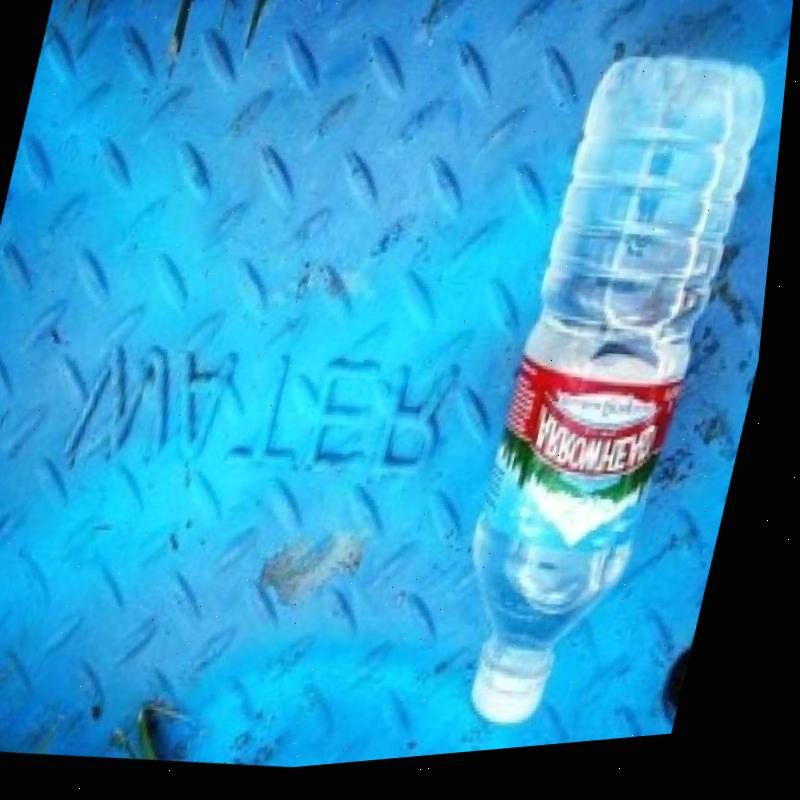botella: (441, 48, 782, 758)
